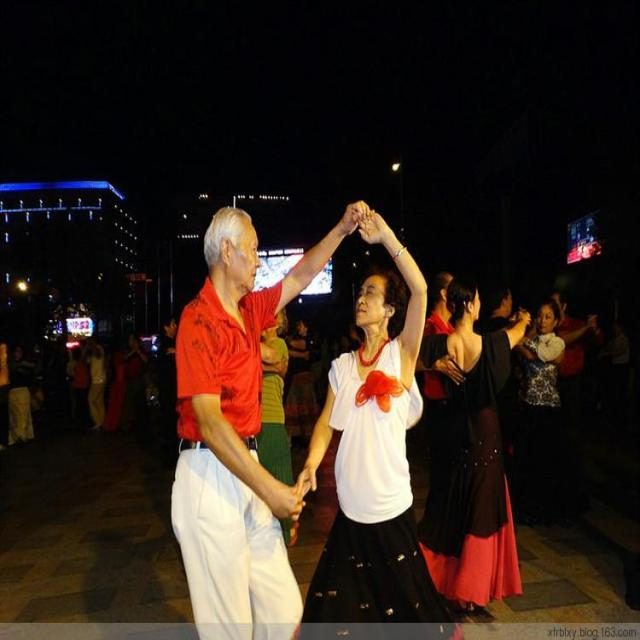non-fight: (172, 198, 366, 640), (292, 205, 464, 638), (416, 266, 530, 620), (513, 298, 589, 528)
